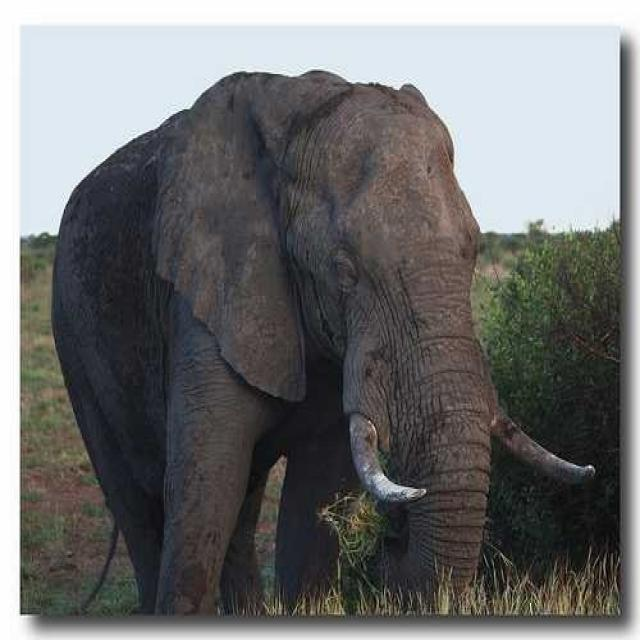Elephant: (50, 67, 595, 616)
